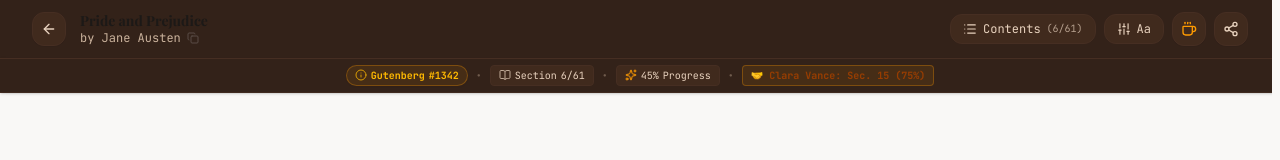
Test: ReaderHeader › forwards symposiumCompanion to the sub-header ribbon
This screenshot has width=1280, height=160.
Check: the element with test id "symposium-companion-pill" shows "Clara Vance: Sec. 15 (75%)", box left=742, top=64, right=934, bottom=86
Click the button with test id "reader-header-copy-meta-1342" at (144, 28), box left=80, top=11, right=208, bottom=46
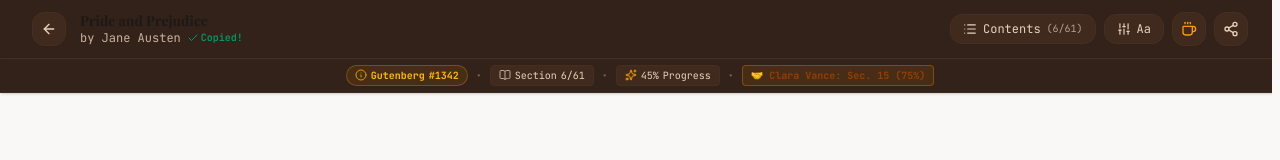
Check: the element with test id "copy-book-link-indicator-1342" reads "Copied!", box left=201, top=31, right=243, bottom=44
